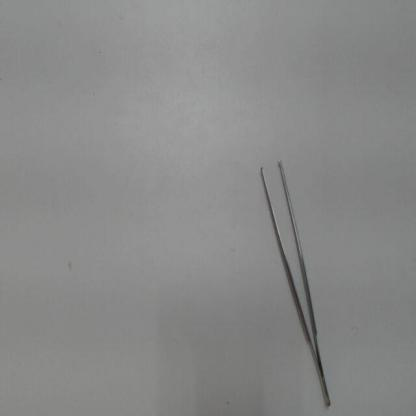Gillies Toothed Dissector: (253, 135, 333, 412)
